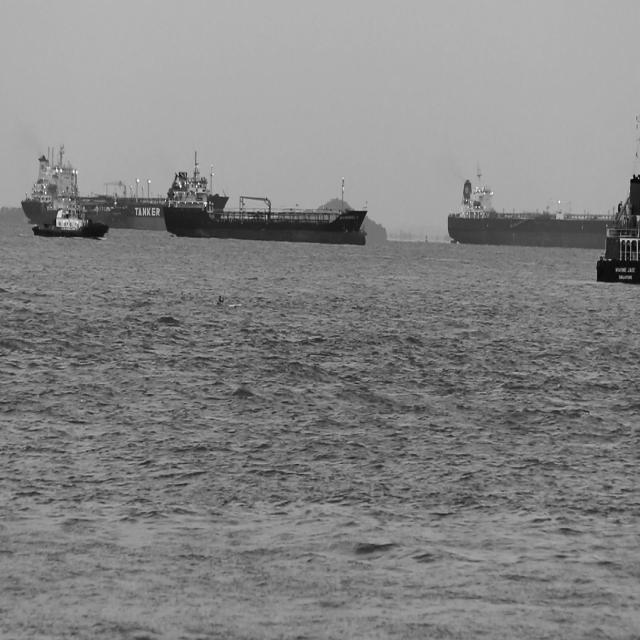kayak: (215, 293, 243, 311)
ship: (162, 150, 366, 248), (448, 163, 615, 250), (20, 144, 167, 231), (595, 115, 640, 286), (31, 204, 111, 241), (360, 224, 368, 241)
